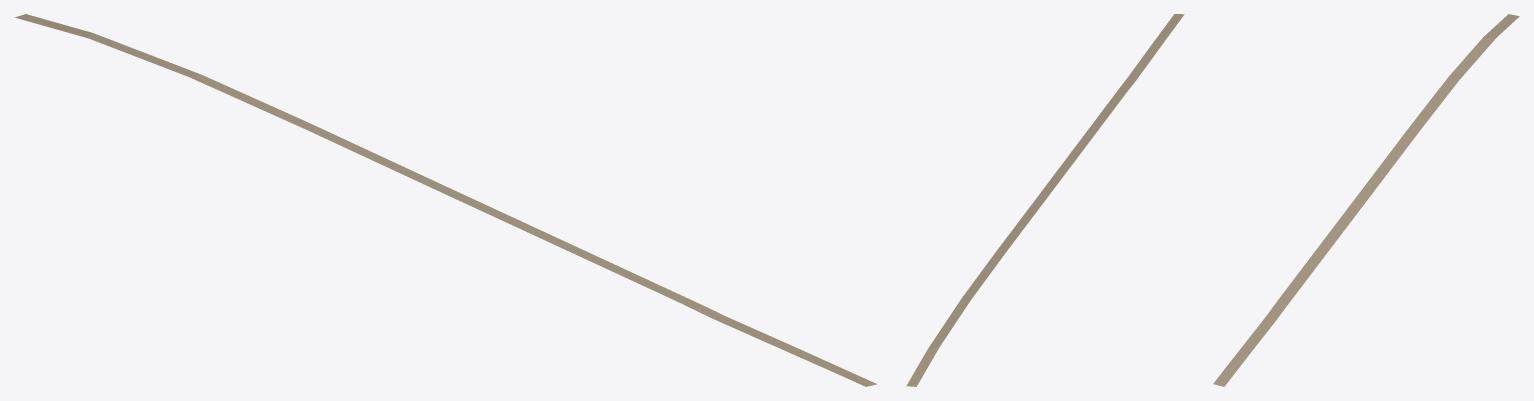
File: farm_21_19_track.glb
3 views of the same model, side by side, from view 1: azimuth 30°, elevation 25°; view 2: azimuth 150°, elevation 25°; view 3: azimuth 330°, elevation 25° (orthographic). The views are drawn at different scales.
Visible parts, largest first — view 1: geometry_0; view 2: geometry_0; view 3: geometry_0.
Part boxes in pixels (x1,y1,x2,y2): geometry_0: (14,14,876,386); geometry_0: (906,14,1184,386); geometry_0: (1213,14,1519,386).
Size of the model in its own units: 59.71 by 6.38 by 261.
